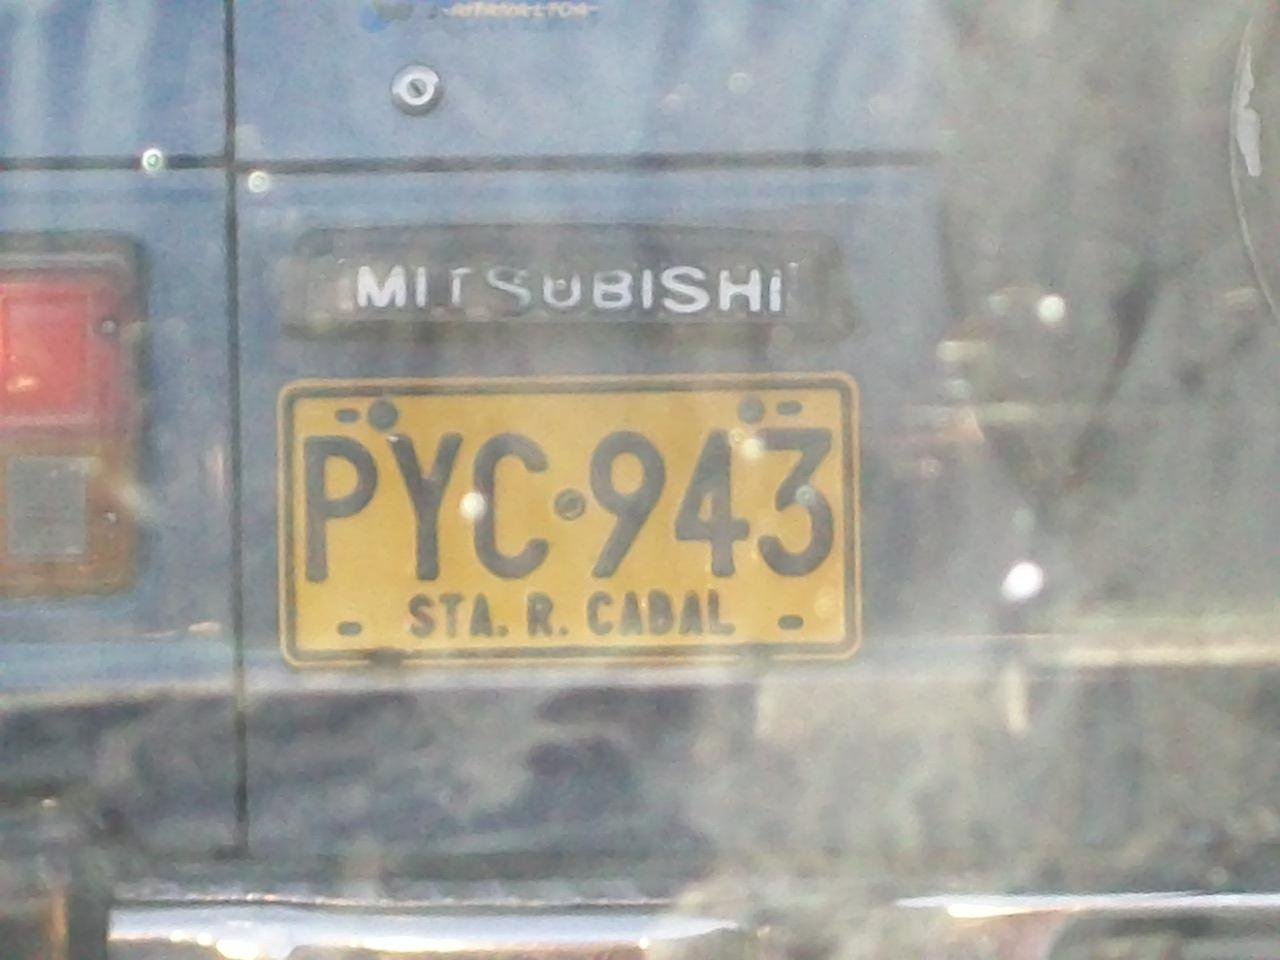placas: (272, 367, 866, 677)
